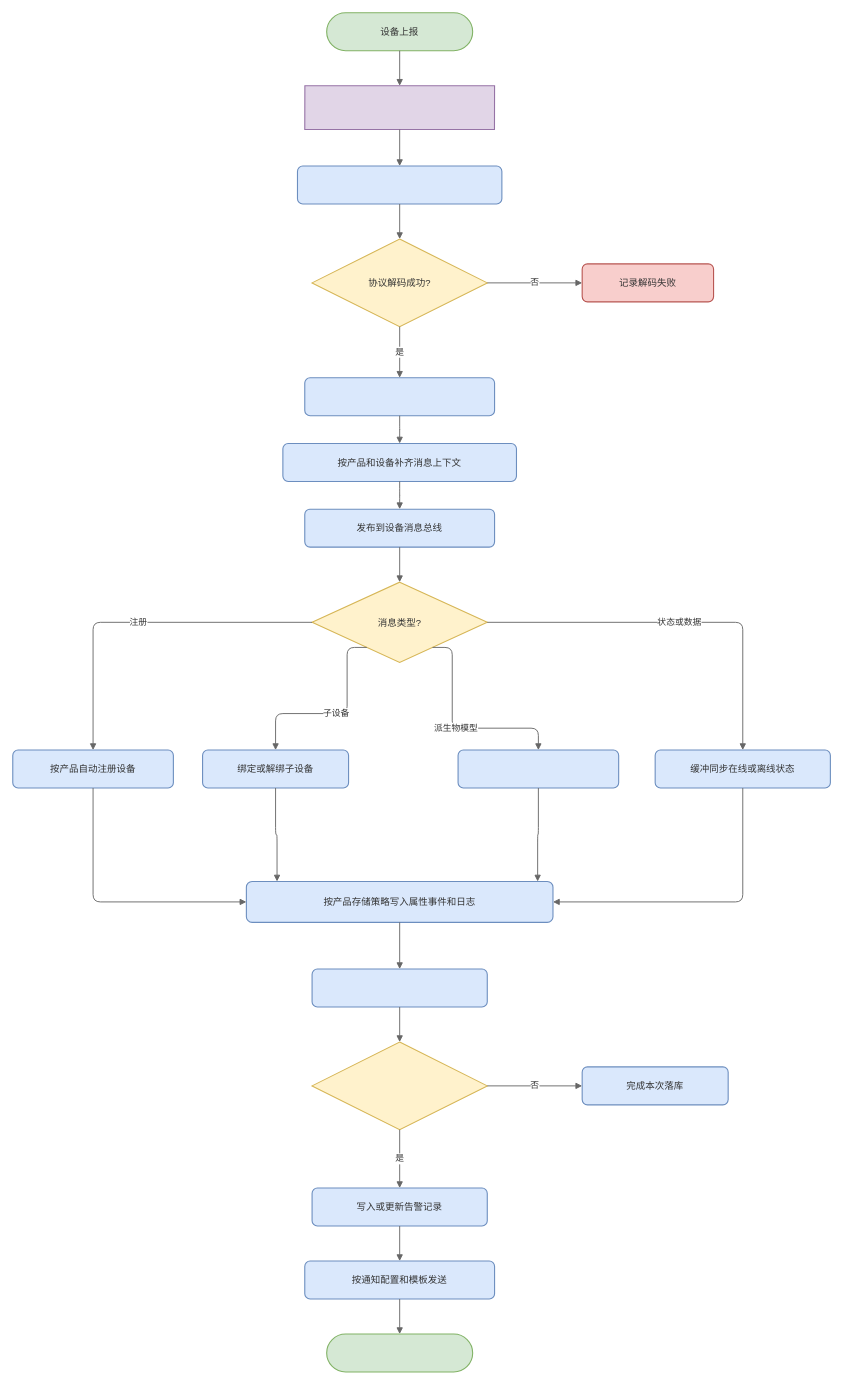
This 844x1386 diagram has some shape labels left out. The shapes that lost their labels are listed below. From the top down, each one's centre as x and y in pixels, then its label:
At point (399, 107): "网络组件接收报文".
At point (399, 184): "设备网关按接入方式接收".
At point (399, 396): "建立或刷新设备会话".
At point (538, 768): "更新设备派生物模型".
At point (399, 987): "可选回写设备最新数据".
At point (399, 1085): "命中已启用场景?".
At point (399, 1352): "处理完成".
